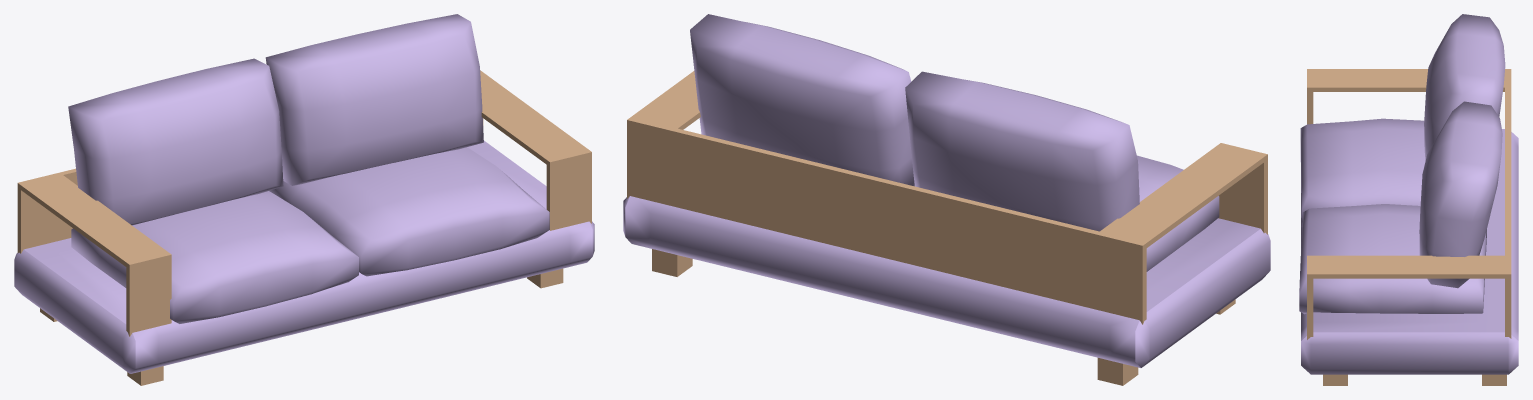
Rendered from couch-medium.glb.
3 renders of one model, left to right at view 1: azimuth 30°, elevation 25°; view 2: azimuth 150°, elevation 25°; view 3: azimuth 270°, elevation 25°, orthographic. The views are drawn at different scales.
Visible parts, largest first — view 1: Couch_Medium2; view 2: Couch_Medium2; view 3: Couch_Medium2.
Boxes of the visible parts, <box> form: Couch_Medium2: <box>14,14,594,385</box>; Couch_Medium2: <box>623,14,1270,385</box>; Couch_Medium2: <box>1299,14,1518,385</box>.
Bounding box in the file's own units: 4.52 × 1.96 × 2.
